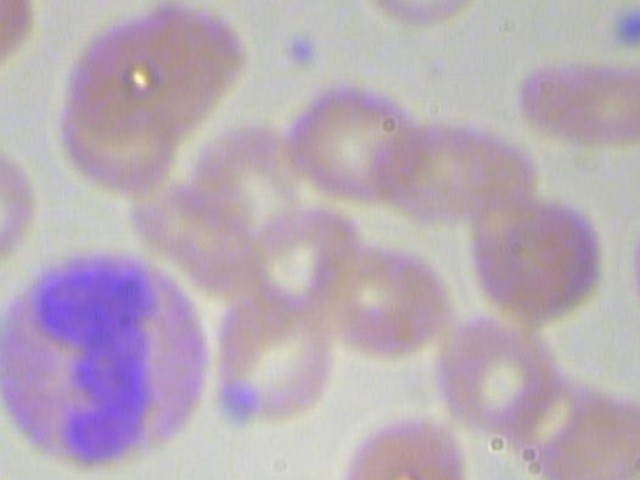Platelets: (277, 23, 323, 71)
RBC: (200, 294, 341, 425), (270, 79, 420, 202), (415, 316, 565, 438), (496, 46, 640, 151), (332, 410, 475, 480), (353, 0, 503, 35), (0, 0, 42, 89)
WBC: (0, 241, 223, 469)
